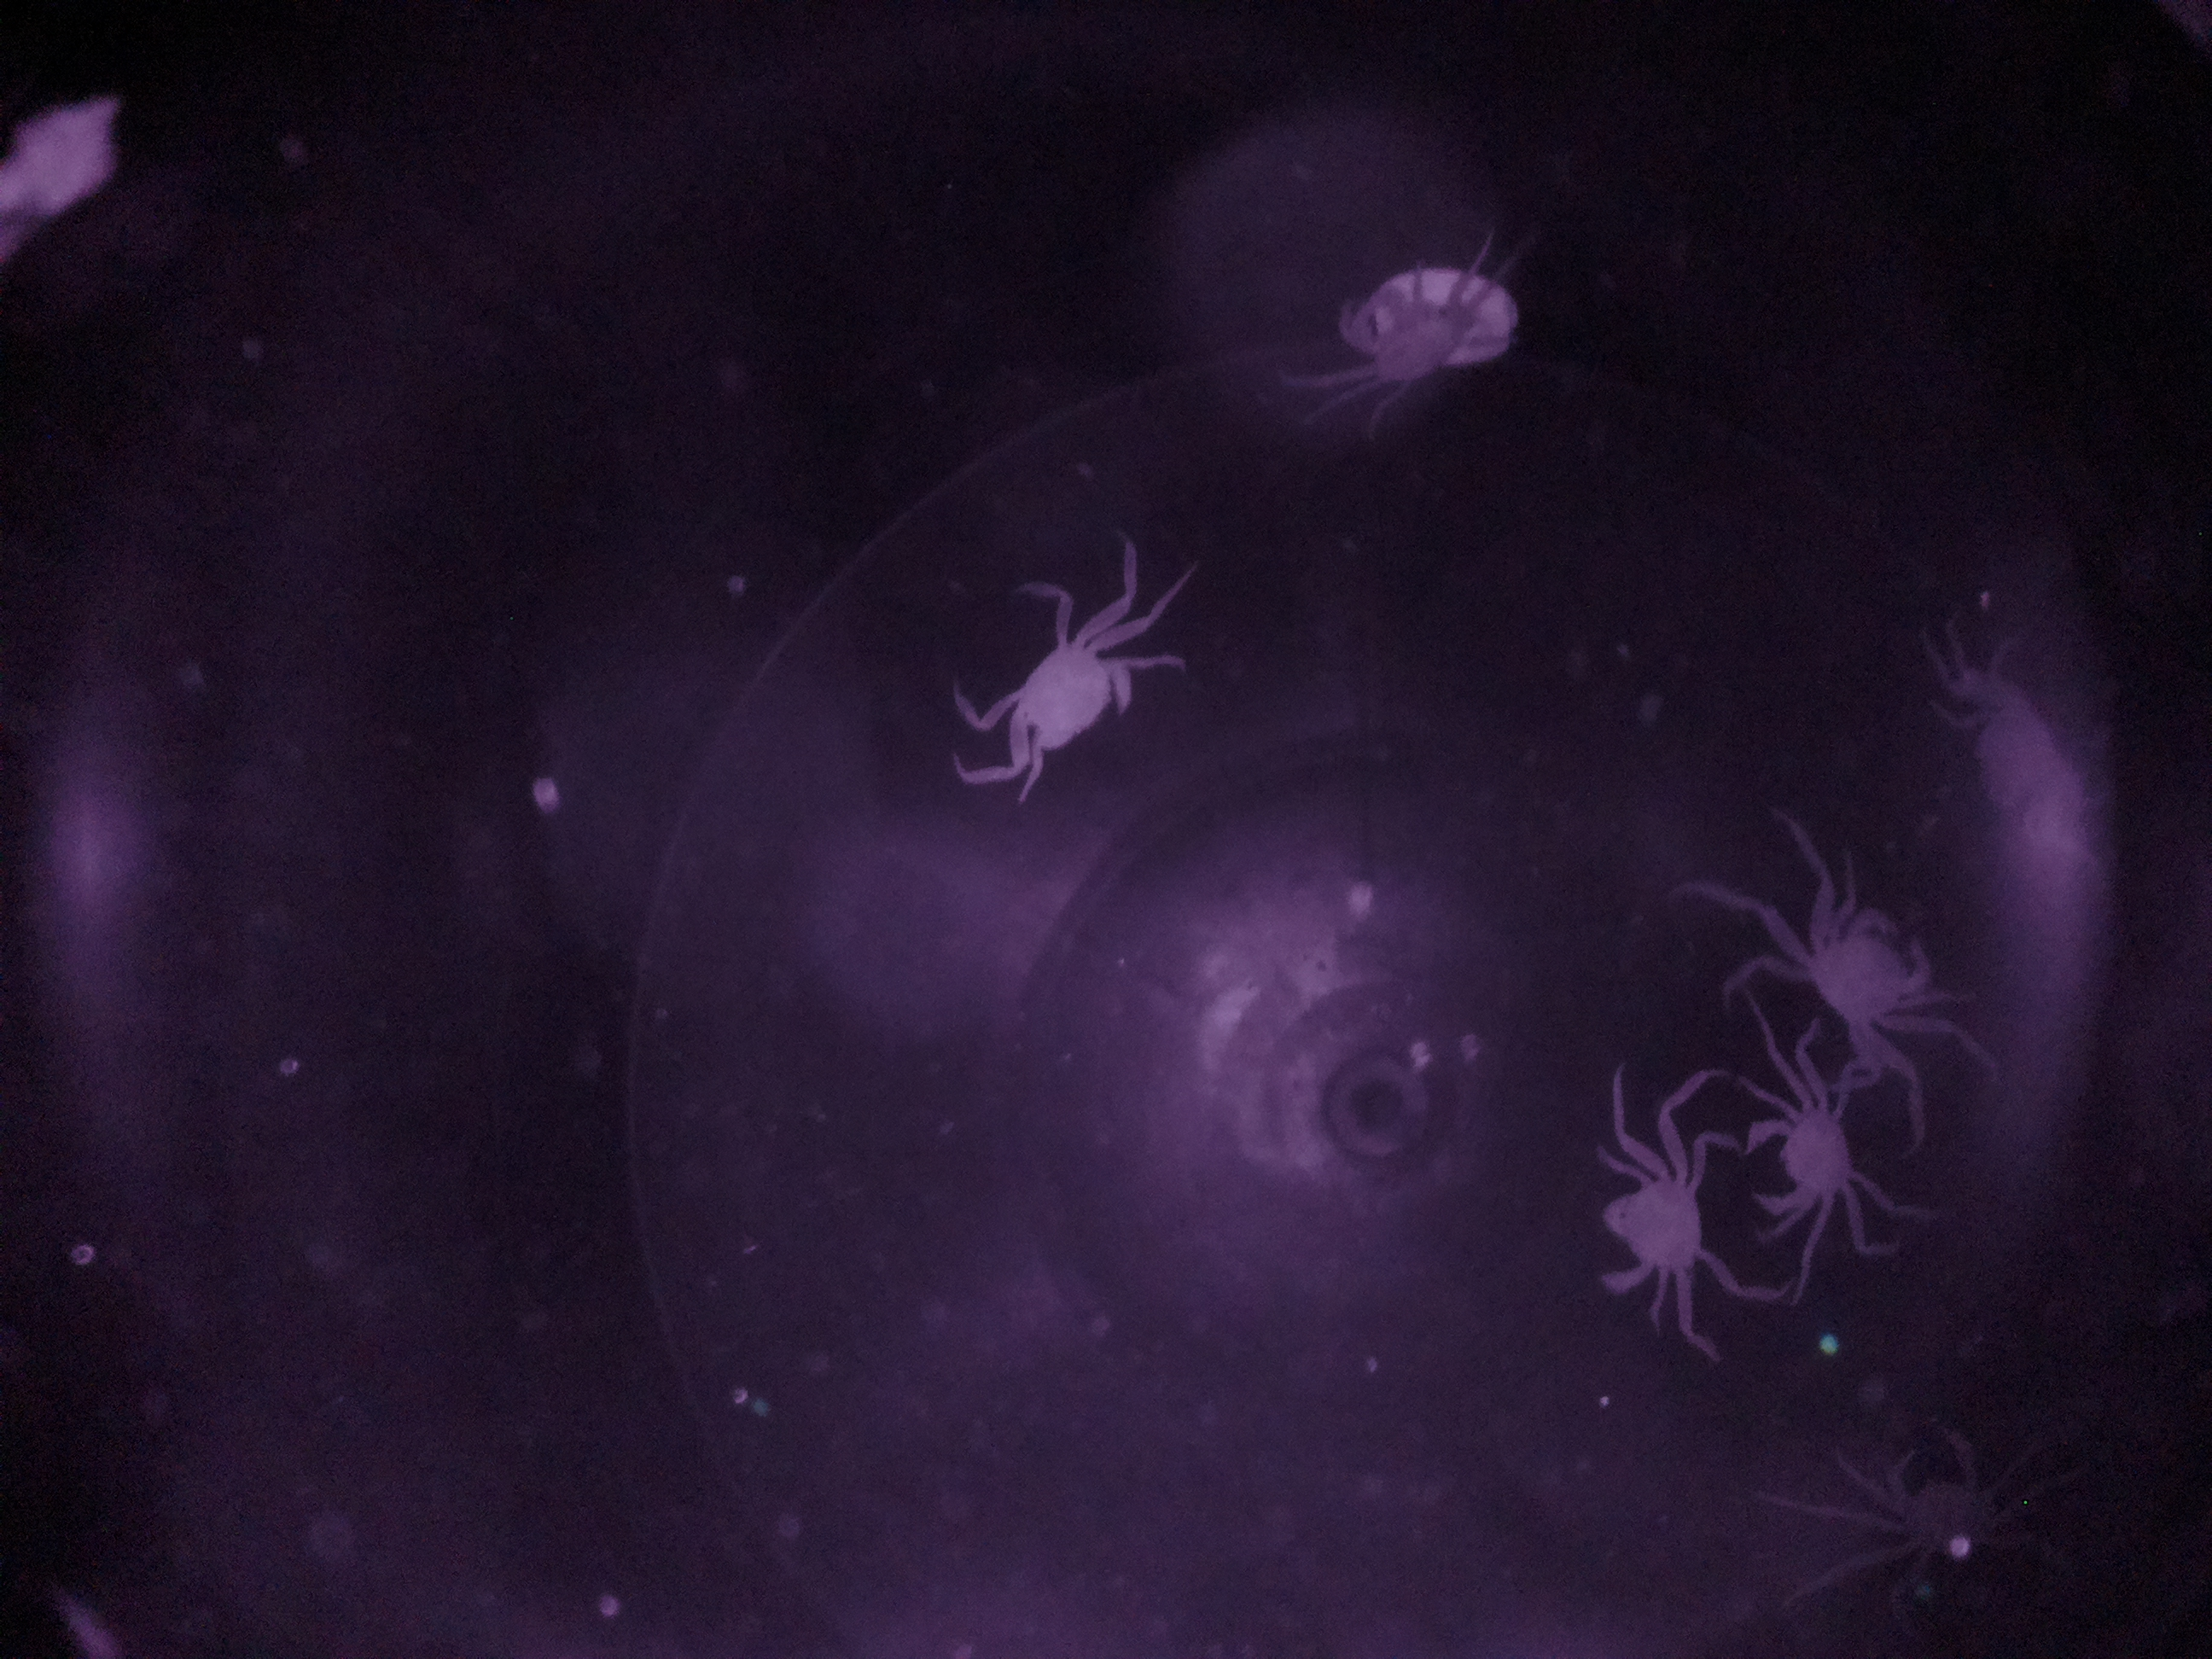Crab: (1780, 870, 1944, 1080), (1580, 1110, 1723, 1347), (982, 605, 1143, 816), (1733, 1073, 1872, 1260)
